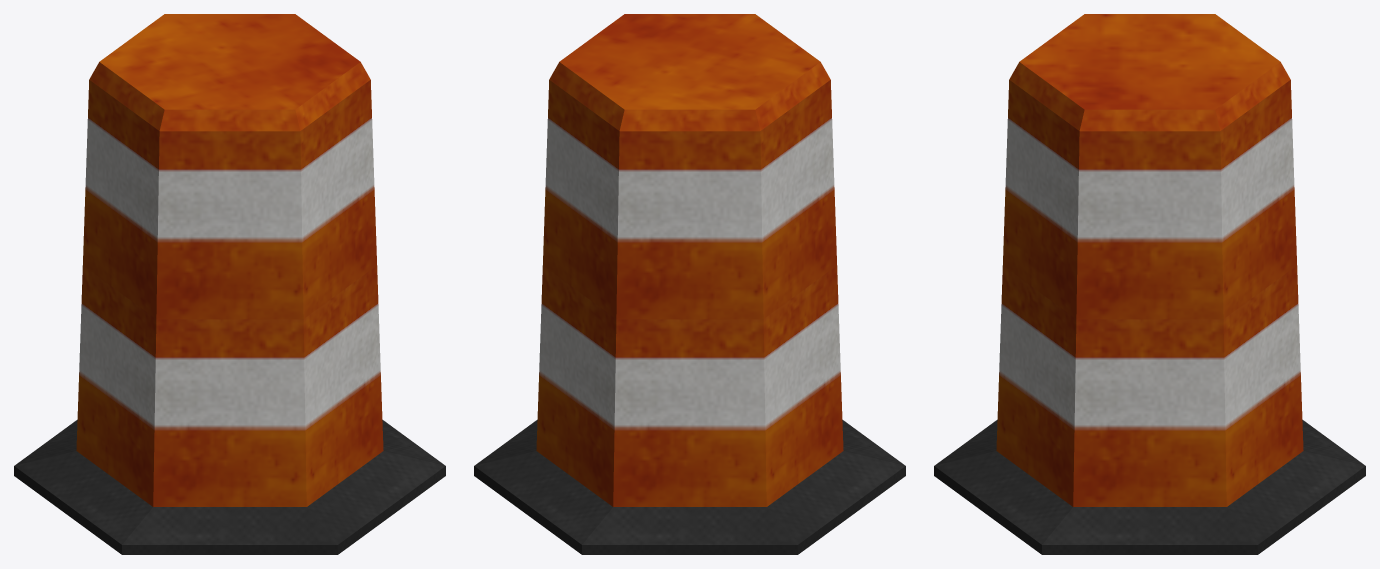
File: Urban_ConstructionConeThinRubber_Model.fbx
3 views of the same model, side by side, from view 1: azimuth 30°, elevation 25°; view 2: azimuth 150°, elevation 25°; view 3: azimuth 270°, elevation 25° (orthographic).
Visible parts, largest first — view 1: Urban_ConstructionConeThinRubber_Mesh; view 2: Urban_ConstructionConeThinRubber_Mesh; view 3: Urban_ConstructionConeThinRubber_Mesh.
Boxes of the visible parts, x1=… form: Urban_ConstructionConeThinRubber_Mesh: x1=14, y1=14, x2=445, y2=554; Urban_ConstructionConeThinRubber_Mesh: x1=474, y1=14, x2=905, y2=554; Urban_ConstructionConeThinRubber_Mesh: x1=934, y1=14, x2=1365, y2=554.
Bounding box in the file's own units: 0.6302 × 0.7703 × 0.7277.
